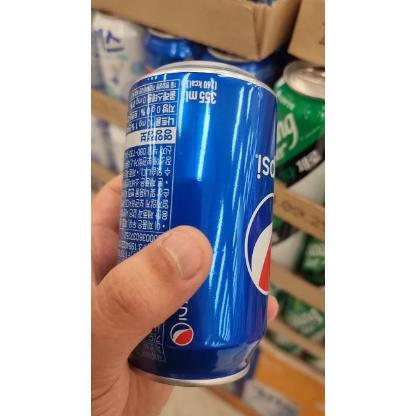Can: (111, 59, 281, 391)
